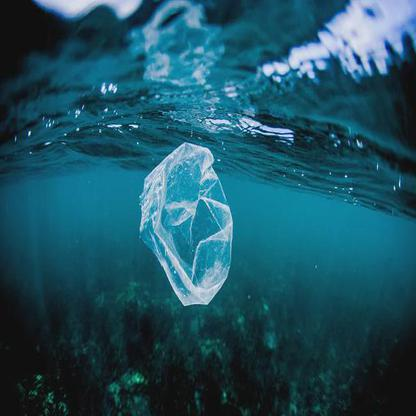plastic bag: (139, 142, 233, 306)
